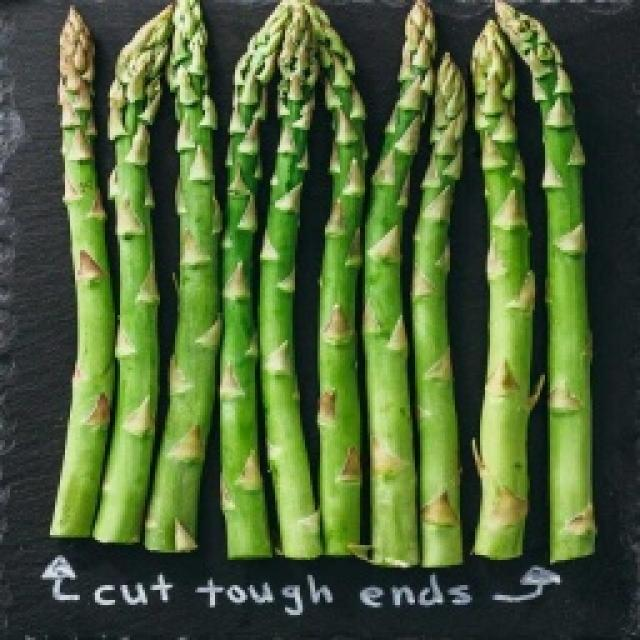Asparagus spear: (36, 23, 110, 563), (532, 20, 603, 559), (472, 28, 526, 590), (160, 5, 212, 560), (418, 73, 467, 594), (223, 0, 264, 566), (366, 34, 408, 581), (110, 4, 150, 564), (324, 45, 364, 577), (272, 17, 310, 562)
